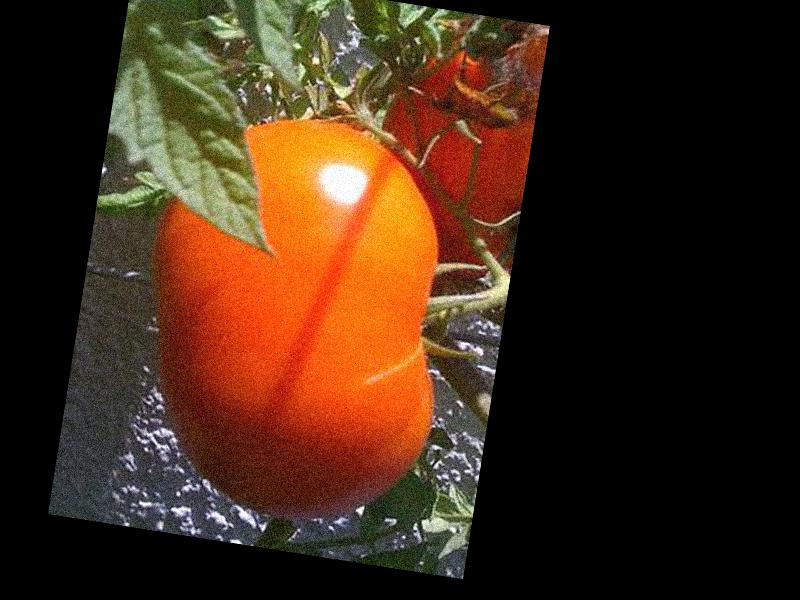Tomato: (118, 97, 476, 537)
